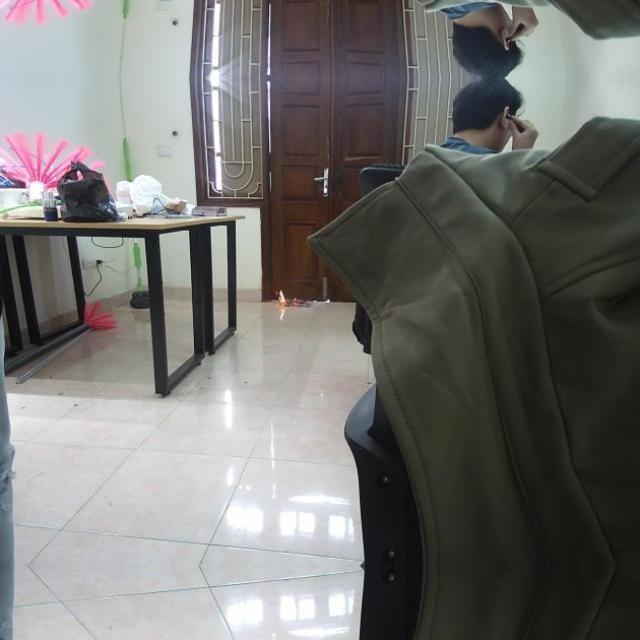smoke: (280, 288, 289, 302)
